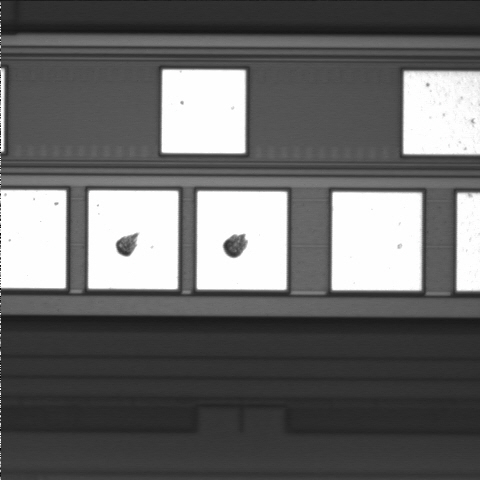pad: (88, 190, 178, 289), (197, 191, 287, 290), (332, 192, 422, 290), (162, 70, 245, 153)
